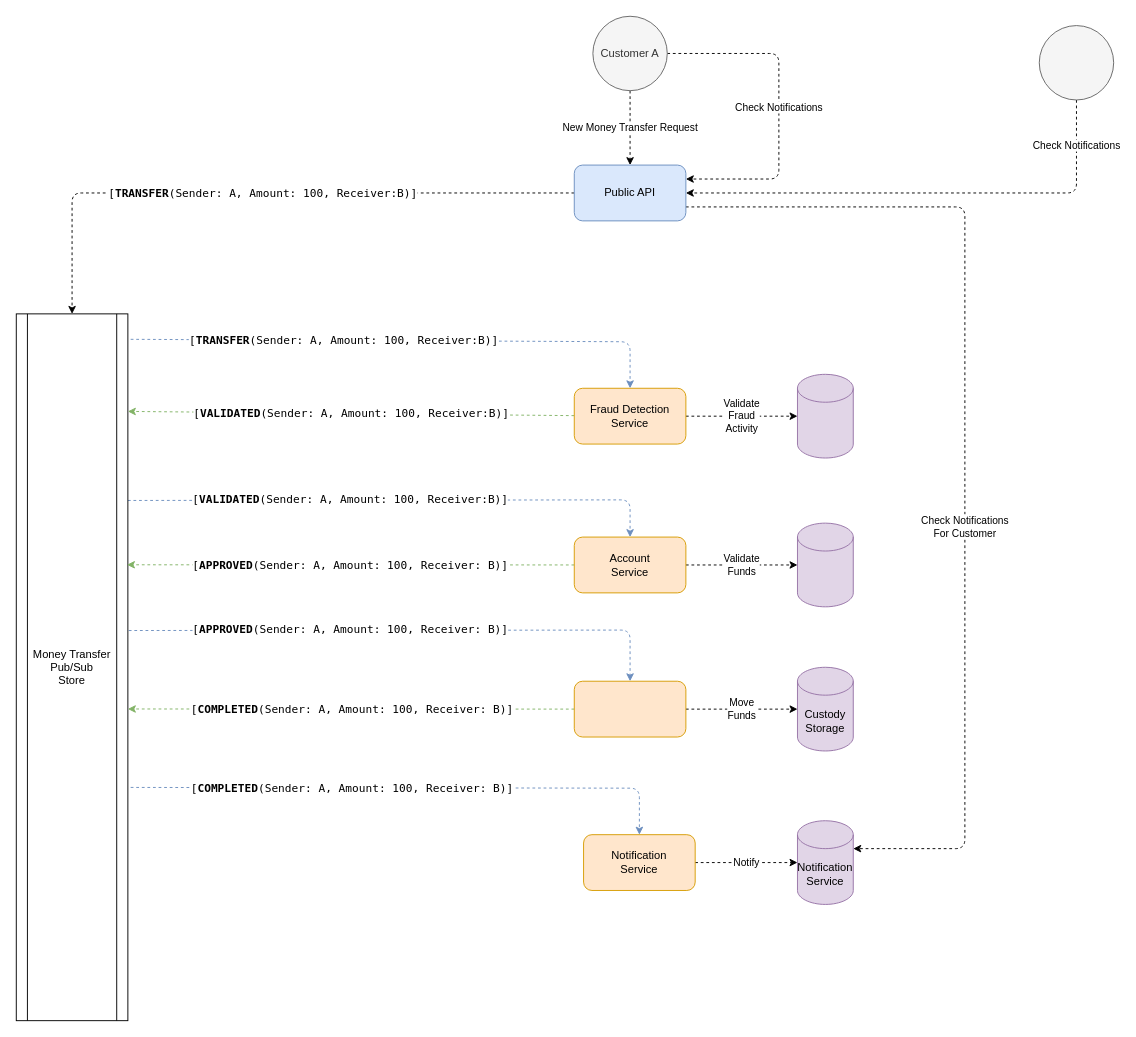
Image size: 1136x1037. Some labels were removed from this diagram. The centre of each missing label's shape, as x and y in pixels:
"Account Storage" belongs at [825,564].
"Custody Service" belongs at [629,708].
"Customer B" belongs at [1076,62].
"Fraud Detection Storage" belongs at [825,415].
